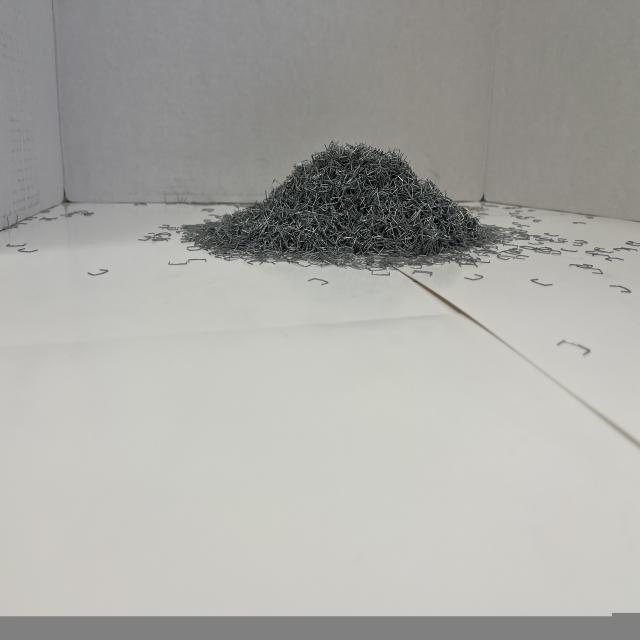staples: (180, 139, 496, 267)
